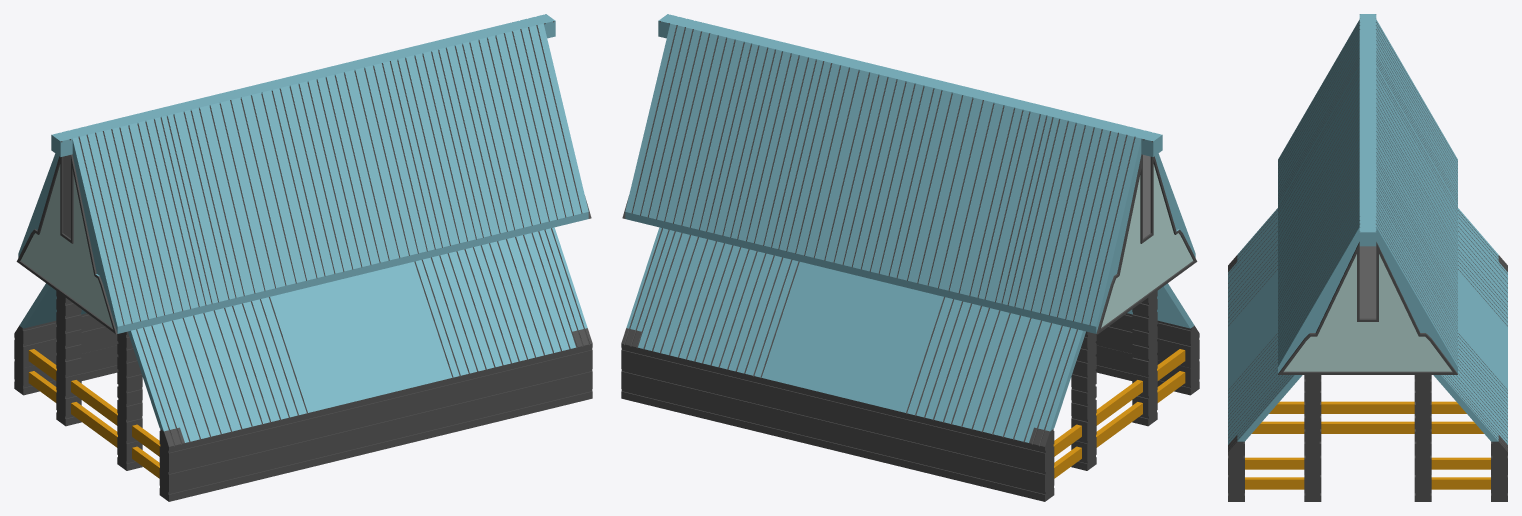
Rendered from Farm_third_level (1).fbx.
3 views of the same model, side by side, from view 1: azimuth 30°, elevation 25°; view 2: azimuth 150°, elevation 25°; view 3: azimuth 270°, elevation 25° (orthographic). The views are drawn at different scales.
Parts seen in each view (by area): view 1: Farm_fird_level; view 2: Farm_fird_level; view 3: Farm_fird_level.
Part boxes in pixels (<box>): Farm_fird_level: <box>14,14,592,501</box>; Farm_fird_level: <box>621,14,1199,501</box>; Farm_fird_level: <box>1228,14,1507,501</box>.
Bounding box in the file's own units: 4181 × 2551 × 2266.
